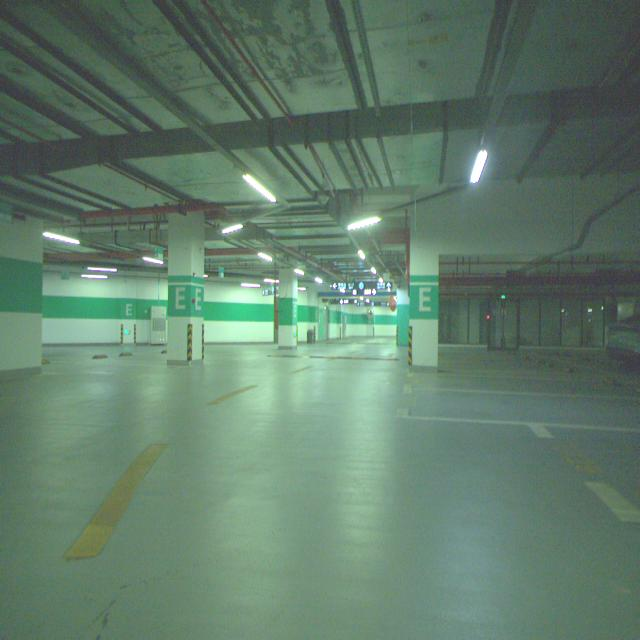pillar: (168, 211, 205, 366)
